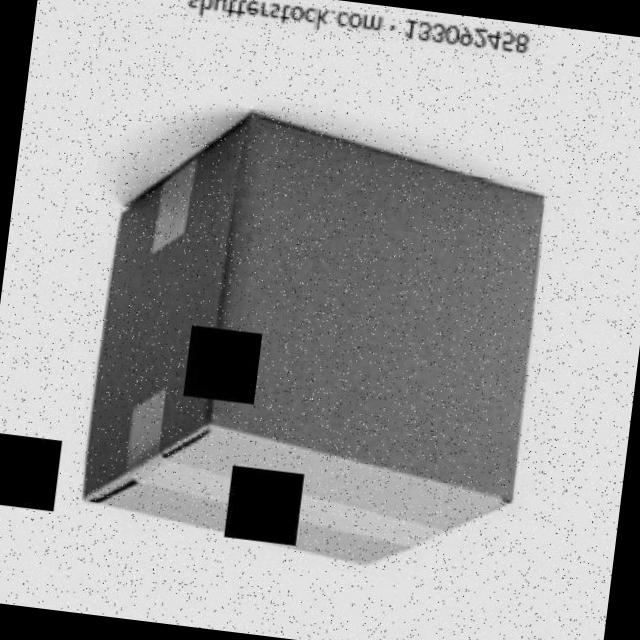box: (73, 92, 564, 579)
